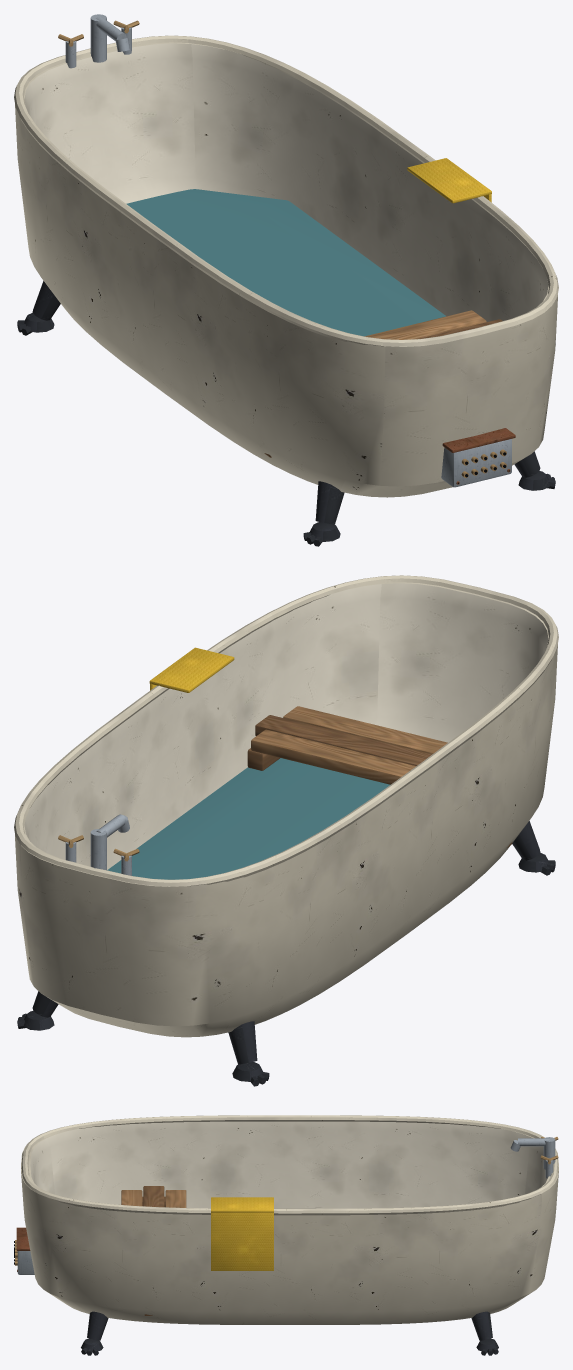
The model's file is bathtub.glb.
3 renders of one model, top to bottom at view 1: azimuth 30°, elevation 25°; view 2: azimuth 150°, elevation 25°; view 3: azimuth 270°, elevation 25°, orthographic. The views are drawn at different scales.
Parts seen in each view (by area): view 1: Body; view 2: Body; view 3: Body.
Part boxes in pixels (x1,y1,x2,y2): Body: (14, 14, 558, 546); Body: (14, 575, 558, 1086); Body: (14, 1115, 558, 1355).
Size of the model in its own units: 0.7357 by 0.6121 by 1.72.
Materials: 11 (9 with a texture image).
